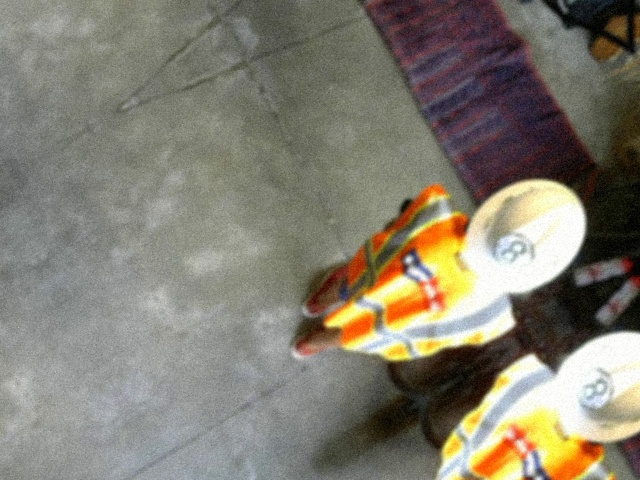eight: (486, 223, 539, 278)
